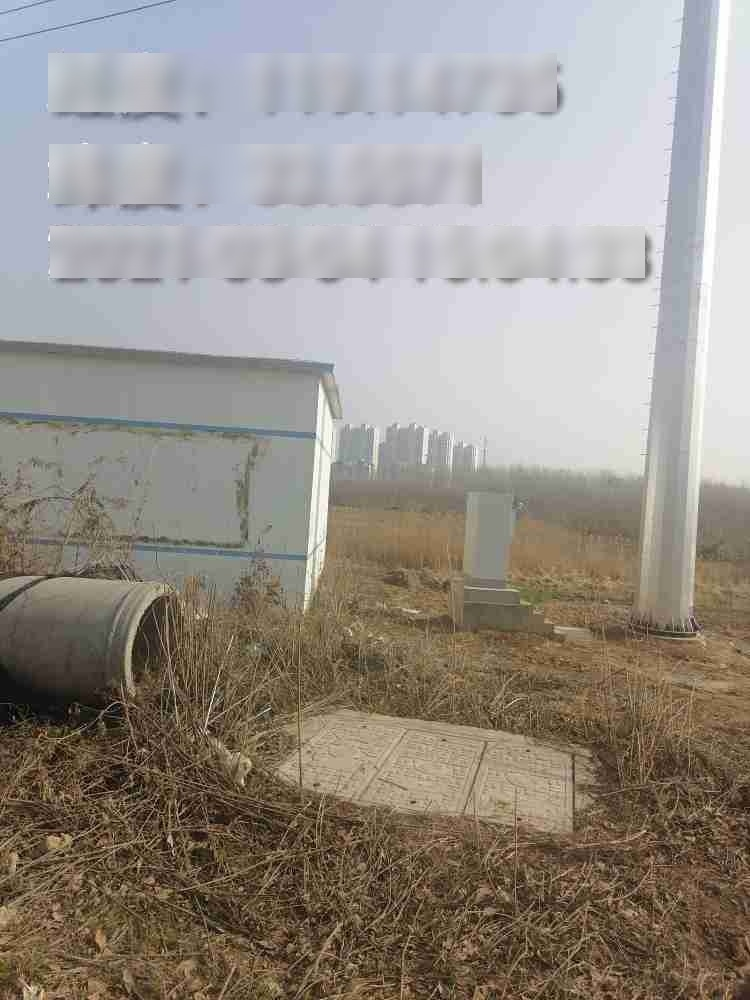good: (269, 706, 586, 843)
